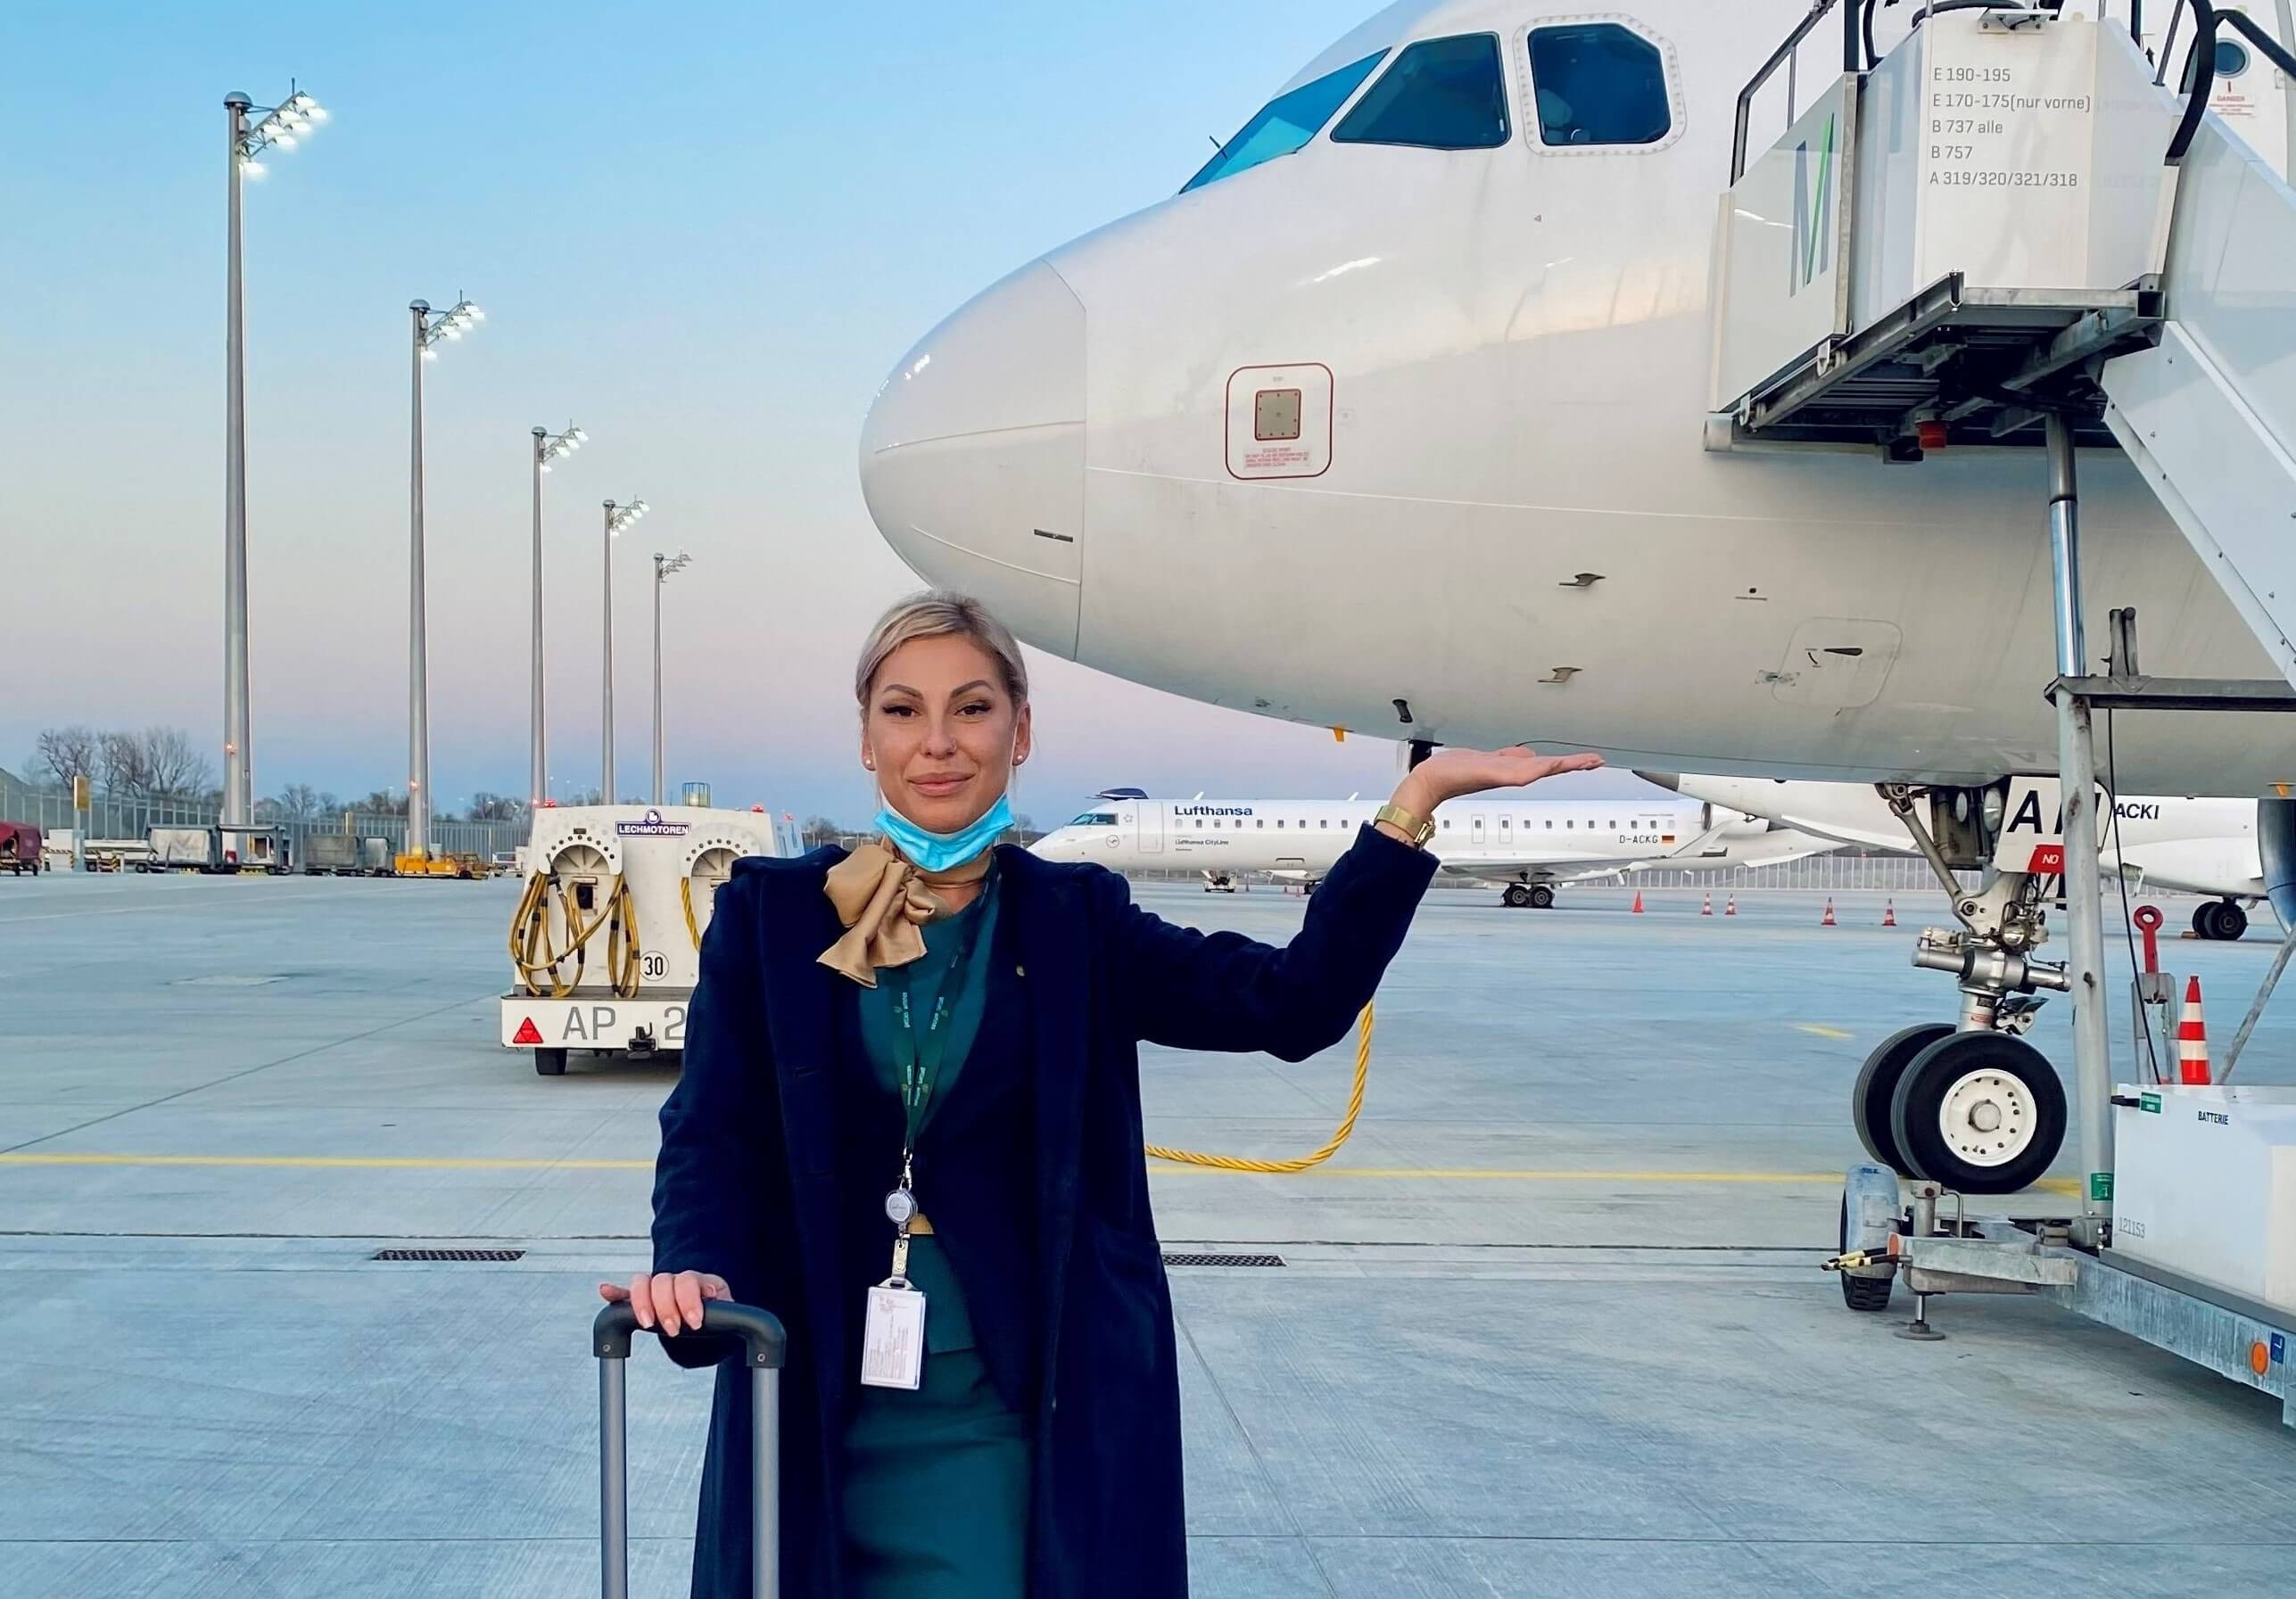without_mask: (878, 653, 994, 837)
